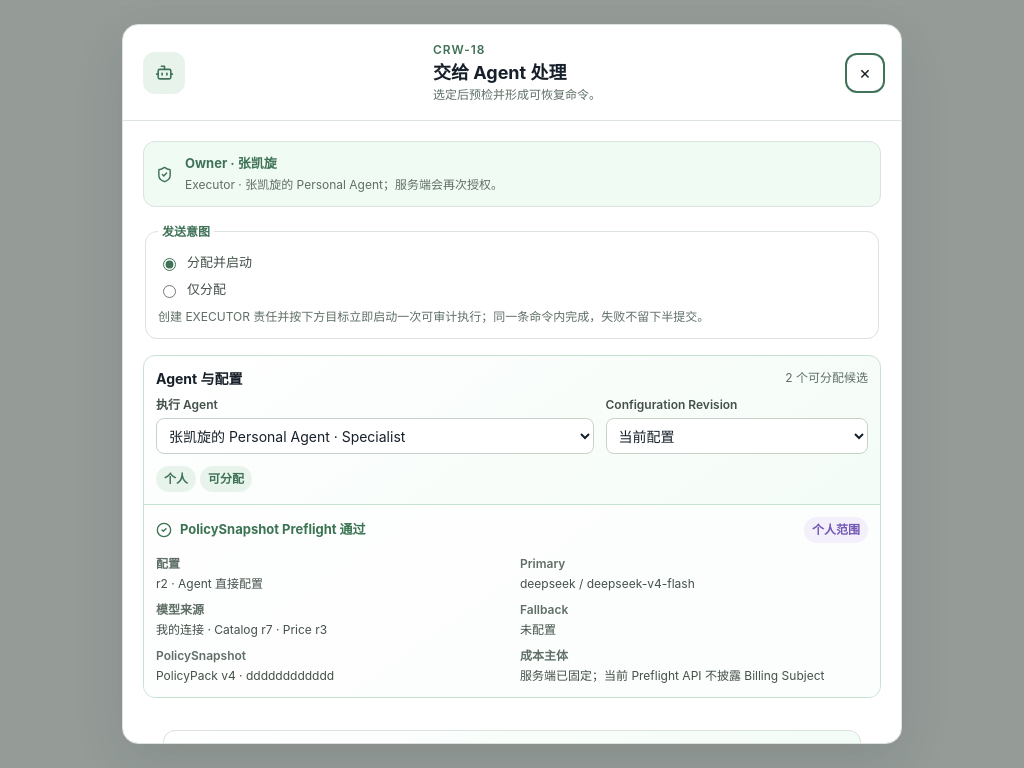
DelegateToAgentDialog › selects a Team Agent and exposes the USER-Key safety boundary
The width and height of the screenshot is (1024, 768).
Step 1. Select "Team Delivery Agent · 团队协调者" in the dropdown labelled "执行 Agent" → (375, 436), box [156,418,594,454]
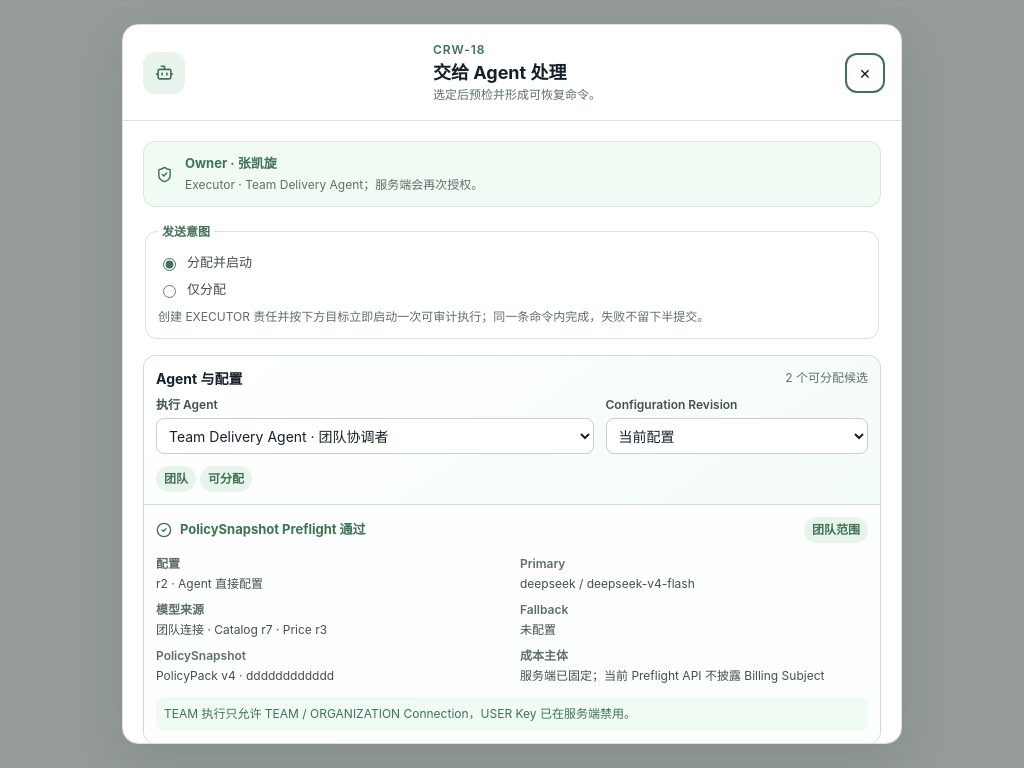
Result: the text "Team" is shown at [185,177,483,192]
Result: the text "TEAM 执行只允许 TEAM / ORGANIZATION Connection" is shown at [164,706,636,721]
Result: the text "USER Key 已在服务端禁用" is shown at [164,706,636,721]
